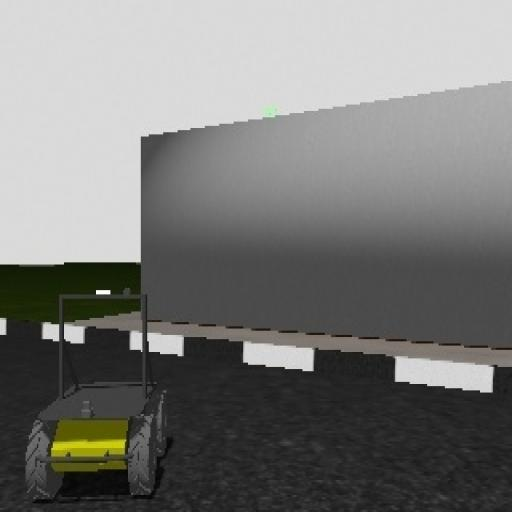huskya200: (24, 279, 171, 504)
